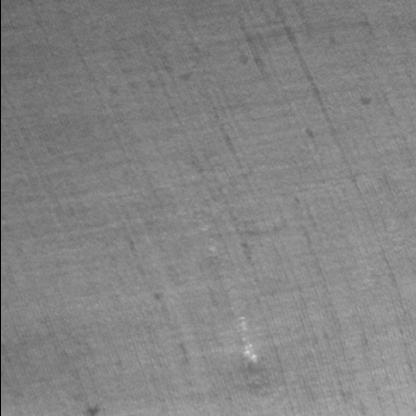thread error: (188, 202, 266, 374)
